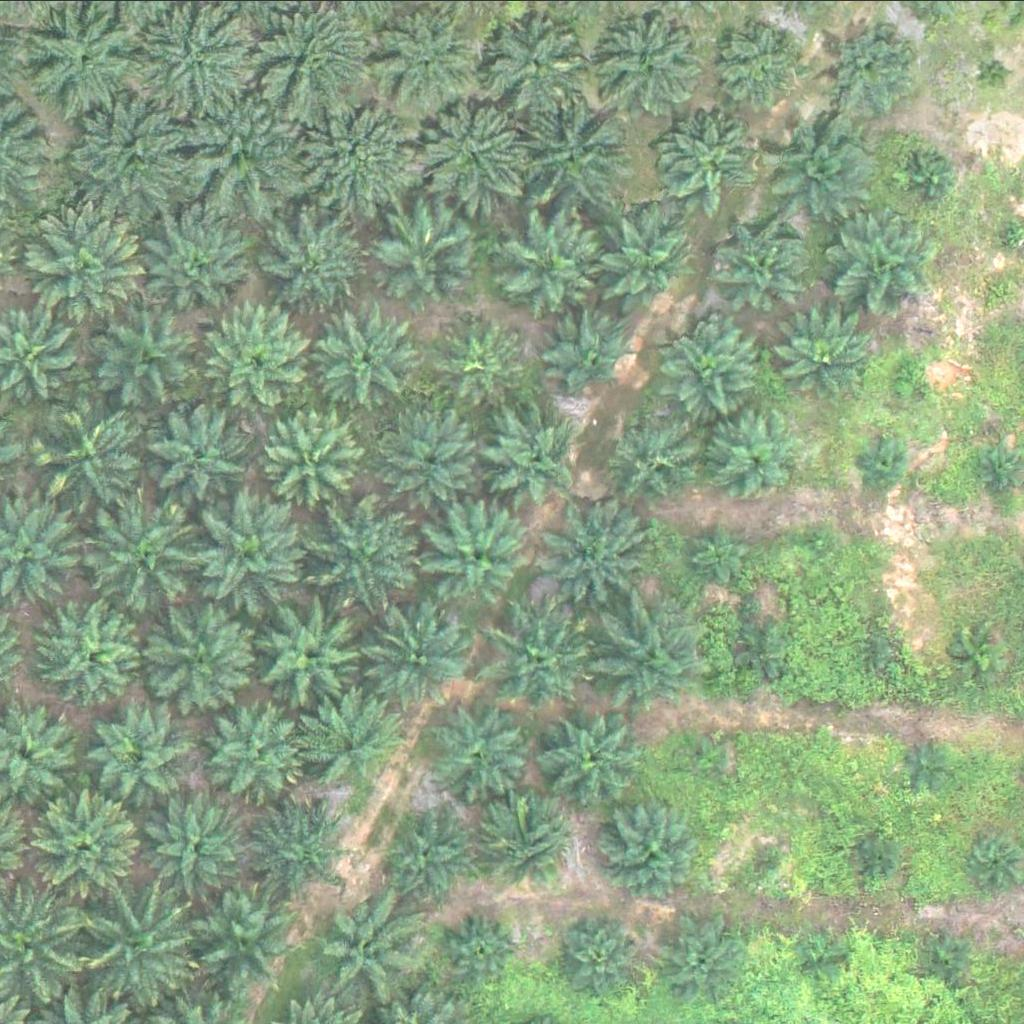Kelapa_Sawit: (191, 488, 317, 613), (15, 199, 141, 324), (132, 203, 258, 328), (73, 86, 199, 211), (184, 86, 310, 211), (293, 89, 419, 214), (68, 881, 193, 1006), (410, 94, 535, 219), (179, 889, 292, 1002), (33, 602, 146, 715), (146, 599, 259, 712), (542, 497, 655, 610), (312, 499, 425, 612), (33, 6, 146, 119), (521, 97, 634, 210), (770, 106, 883, 219), (88, 498, 202, 610), (39, 401, 153, 513), (206, 301, 320, 413), (22, 786, 135, 898), (486, 599, 599, 711), (594, 603, 707, 715), (147, 792, 248, 892), (96, 702, 197, 802), (594, 212, 695, 312), (663, 317, 764, 417), (387, 406, 488, 506), (481, 406, 582, 506), (600, 413, 701, 513), (427, 505, 528, 605), (263, 601, 364, 701), (360, 608, 461, 708), (543, 707, 644, 807), (431, 700, 532, 800), (296, 691, 397, 791), (208, 704, 309, 804), (249, 800, 350, 900), (381, 800, 482, 900), (477, 796, 578, 896), (306, 898, 407, 998), (661, 111, 762, 211), (609, 14, 710, 114), (488, 16, 589, 116), (376, 11, 477, 111), (835, 212, 936, 312), (144, 399, 244, 499), (98, 309, 198, 409), (270, 212, 370, 312), (378, 204, 478, 304), (504, 216, 604, 316), (320, 305, 420, 405), (265, 408, 365, 508), (597, 804, 697, 904), (775, 309, 875, 409), (548, 309, 636, 397), (440, 316, 528, 404), (718, 222, 806, 310), (715, 412, 804, 499), (826, 23, 915, 110), (654, 919, 742, 1006), (553, 913, 641, 1000), (719, 24, 807, 111), (448, 910, 524, 985), (683, 521, 746, 583), (952, 629, 1003, 679), (903, 154, 954, 204), (854, 836, 905, 886), (898, 736, 949, 786), (682, 733, 732, 783), (747, 837, 797, 887), (741, 622, 791, 672), (921, 935, 971, 985), (854, 435, 904, 485), (889, 357, 927, 395), (977, 52, 1015, 90), (856, 629, 894, 666), (801, 524, 839, 561), (807, 942, 844, 979)
